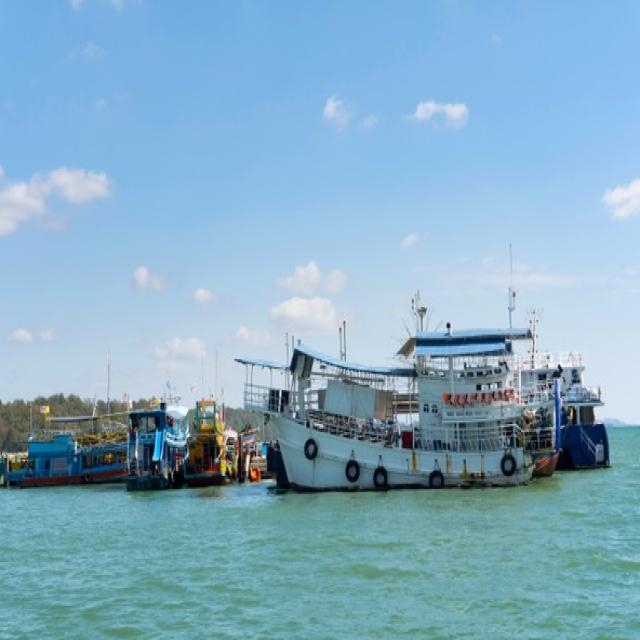fishing boat: (236, 309, 554, 495)
